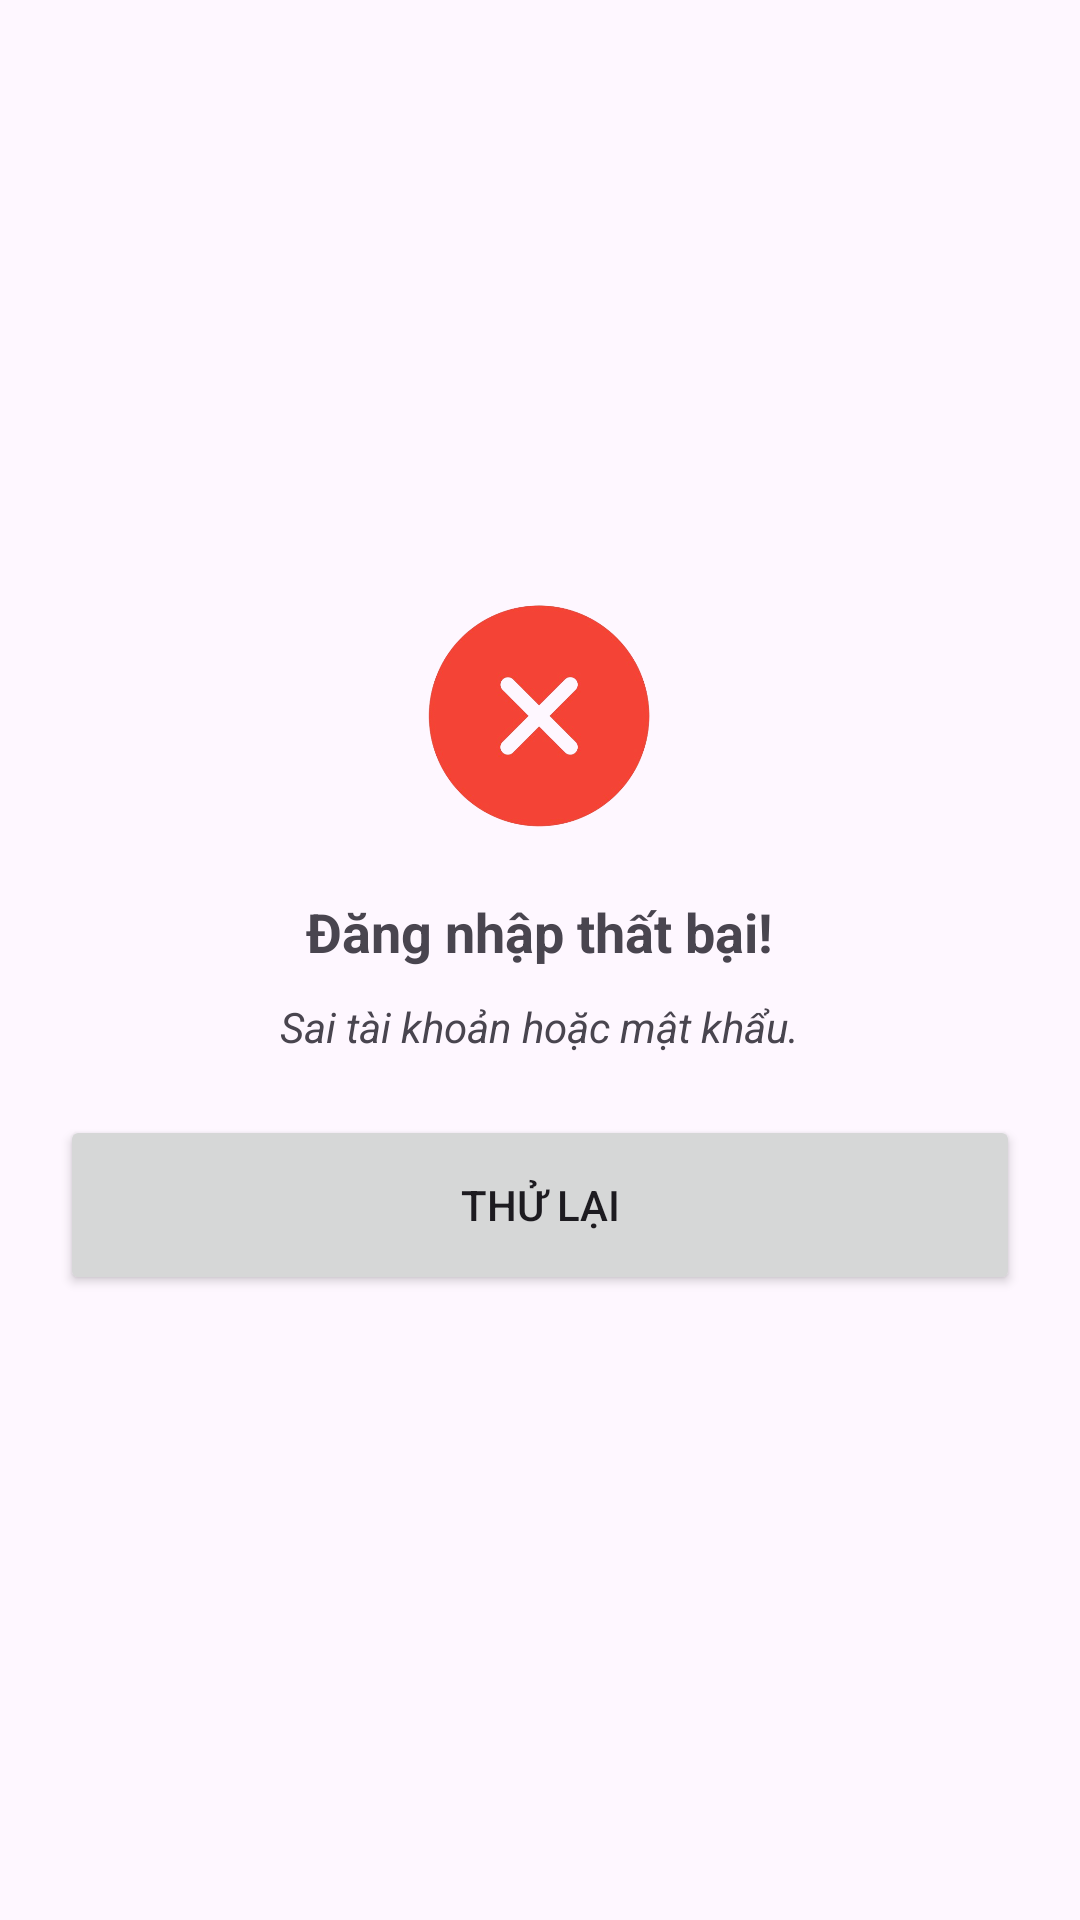

Icons on this 1080*1920 Android screen, each with its box as Rect(x1, y1, x2, y2):
login failed: Rect(428, 605, 650, 827)
